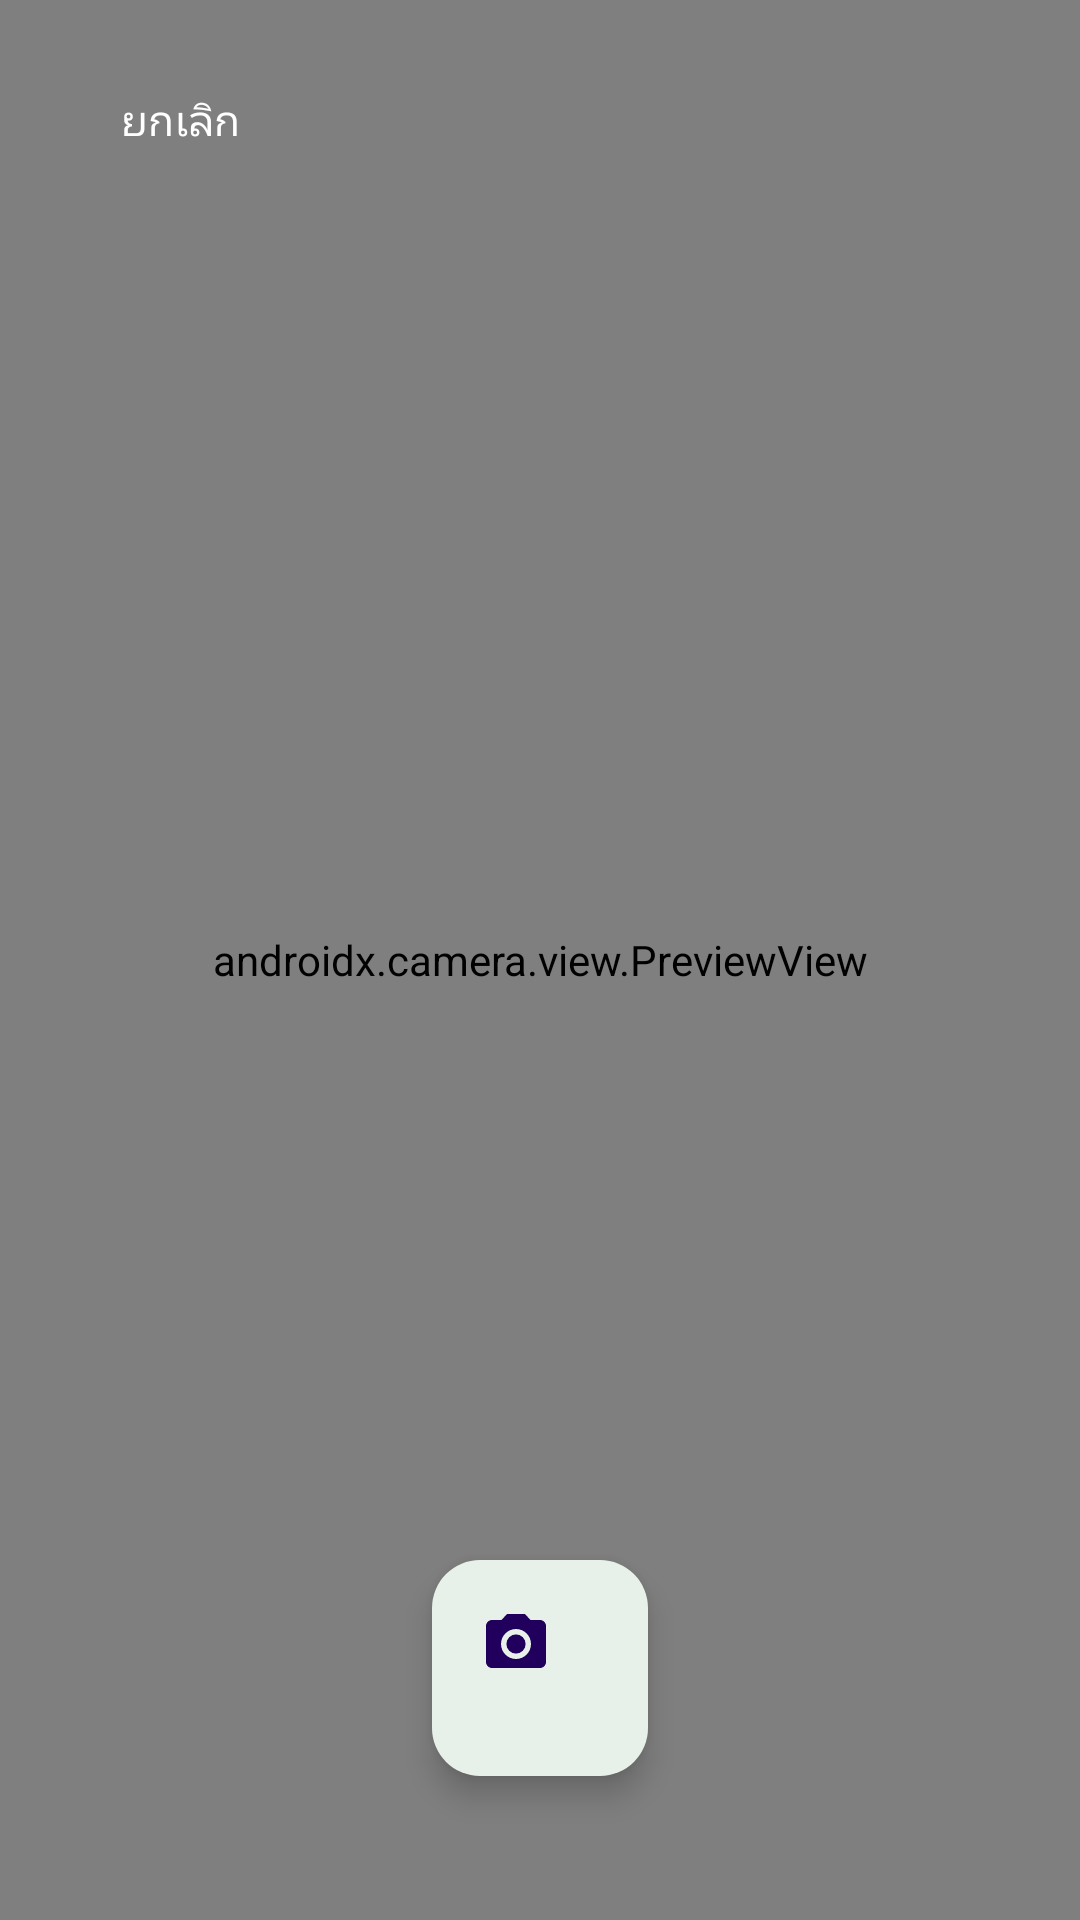

Screen size 1080px×1920px. Icon name, then its box in pixels as (x1, y1, x2, y2):
ถ่ายภาพ: (432, 1560, 648, 1776)
